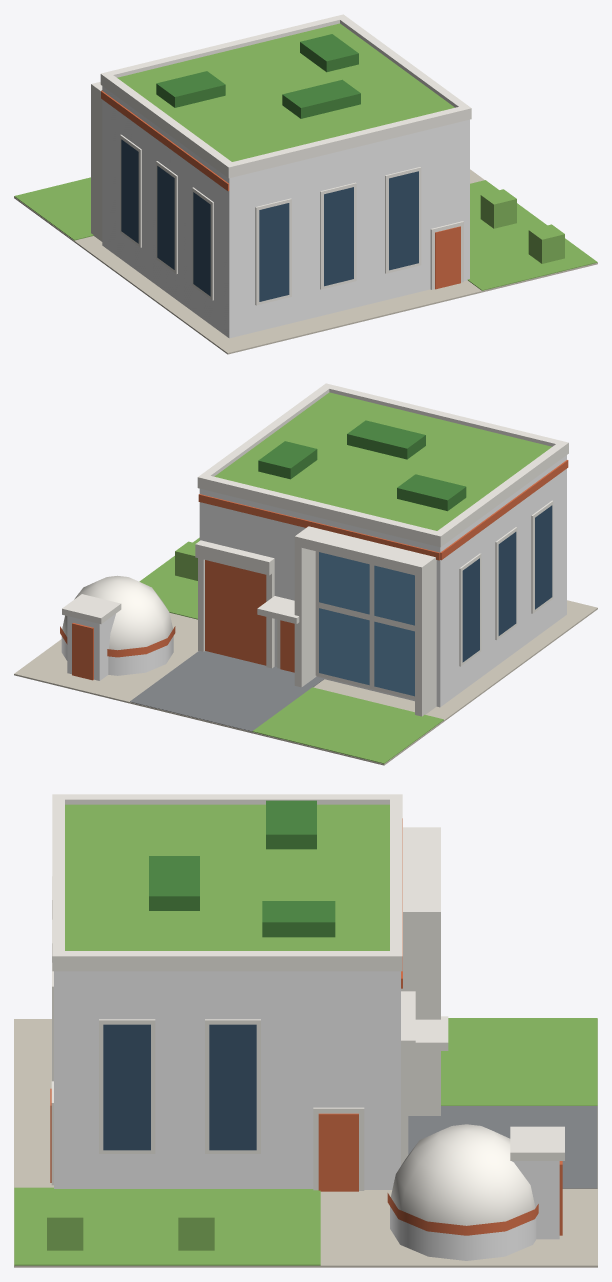
The picture shows the model from 3 angles, top to bottom: view 1: azimuth 30°, elevation 25°; view 2: azimuth 150°, elevation 25°; view 3: azimuth 270°, elevation 25°; orthographic projection. The views are drawn at different scales.
Parts seen in each view (by area): view 1: lab, green_roof, window_glass (×6), roof_rim (×4), lawn (×2), yard, roof_planting (×3), window_frame (×6), tree_spot (×2), glass_fin, door, stripe (+1 smaller); view 2: green_roof, lab, storefront (×4), roof_rim (×4), lawn (×2), yard, drive, glass_fin (×2), garage_door, roof_planting (×3), window_glass (×3), test_dome (+13 smaller); view 3: lab, green_roof, lawn (×2), yard, roof_rim (×4), window_glass (×2), test_dome, roof_planting (×3), drive, glass_fin, glass_hood, dome_drum (+10 smaller).
Part boxes in pixels (box(x1,y1,x2,y2)): lab: box(102, 86, 469, 338); green_roof: box(117, 23, 454, 161); window_glass (×6): box(121, 139, 418, 301); roof_rim (×4): box(100, 14, 471, 178); lawn (×2): box(14, 177, 597, 290); yard: box(14, 169, 597, 354); roof_planting (×3): box(156, 34, 360, 118); window_frame (×6): box(120, 134, 421, 305); tree_spot (×2): box(480, 189, 564, 263); glass_fin: box(91, 94, 102, 241); door: box(435, 226, 460, 289); stripe: box(101, 91, 229, 191); green_roof: box(214, 392, 551, 530); lab: box(199, 455, 566, 707); storefront (×4): box(319, 552, 414, 696); roof_rim (×4): box(197, 383, 568, 547); lawn (×2): box(139, 537, 443, 763); yard: box(14, 600, 597, 765); drive: box(130, 651, 323, 731); glass_fin (×2): box(294, 546, 436, 716); garage_door: box(205, 560, 266, 665); roof_planting (×3): box(258, 420, 466, 511); window_glass (×3): box(462, 505, 552, 662); test_dome: box(62, 575, 172, 650); lab: box(54, 971, 400, 1189); green_roof: box(65, 804, 389, 950); lawn (×2): box(14, 1018, 597, 1265); yard: box(14, 1019, 597, 1267); roof_rim (×4): box(52, 794, 402, 971); window_glass (×2): box(103, 1024, 256, 1150); test_dome: box(391, 1124, 535, 1225); roof_planting (×3): box(149, 800, 335, 937); drive: box(408, 1106, 597, 1188); glass_fin: box(401, 925, 440, 1115); glass_hood: box(403, 827, 440, 925); dome_drum: box(390, 1206, 536, 1260).
Size of the model in its own units: 16 by 7.45 by 16.
